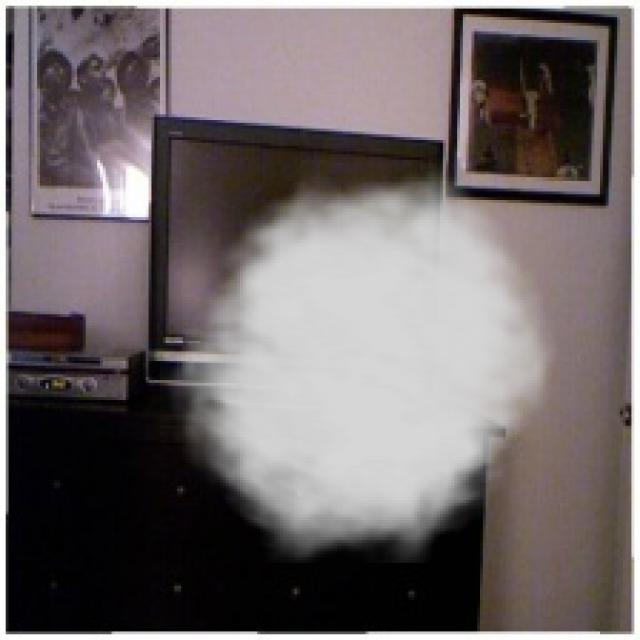smoke: (160, 157, 569, 563)
